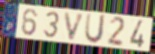2: (106, 16, 126, 48)
3: (41, 10, 61, 39)
4: (129, 19, 146, 50)
6: (20, 8, 39, 37)
U: (83, 12, 108, 45)
V: (63, 11, 86, 42)
